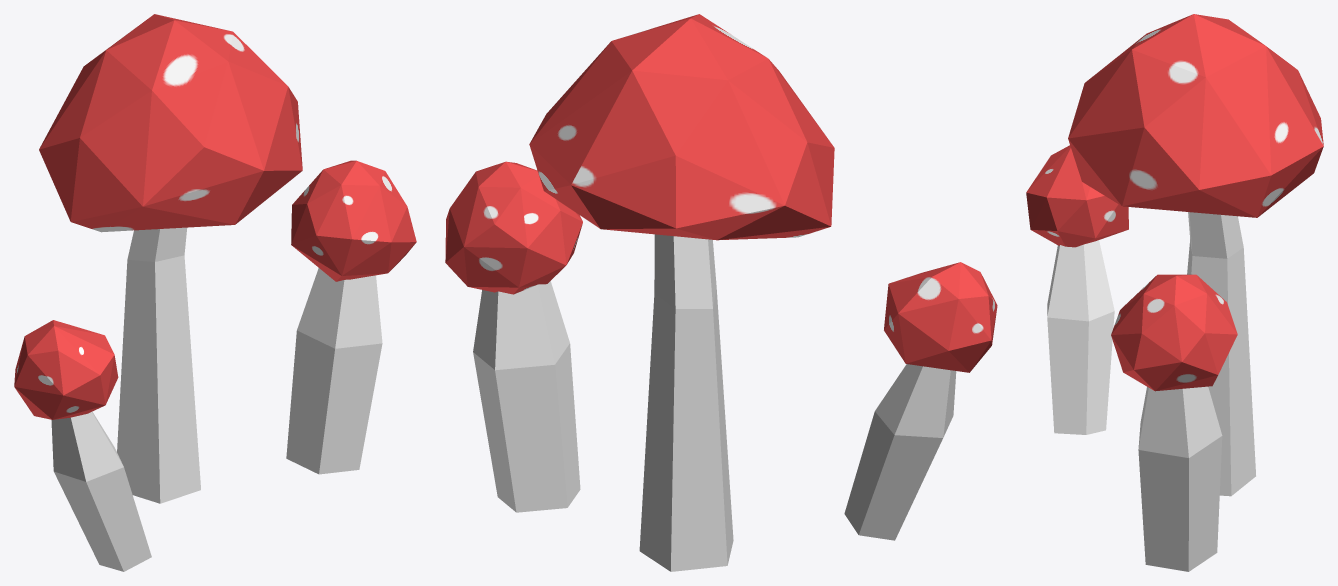
The model's file is mushroom7.fbx.
The picture shows the model from 3 angles, left to right: view 1: azimuth 30°, elevation 25°; view 2: azimuth 150°, elevation 25°; view 3: azimuth 270°, elevation 25°; orthographic projection. The views are drawn at different scales.
Parts seen in each view (by area): view 1: Mushroom_e_07; view 2: Mushroom_e_07; view 3: Mushroom_e_07.
Boxes of the visible parts, box(x1,y1,x2,y2) form: Mushroom_e_07: box(14, 14, 416, 571); Mushroom_e_07: box(445, 14, 997, 571); Mushroom_e_07: box(1026, 14, 1323, 571).
Size of the model in its own units: 24.42 by 41.61 by 42.99.
Materials: 1 (1 with a texture image).
